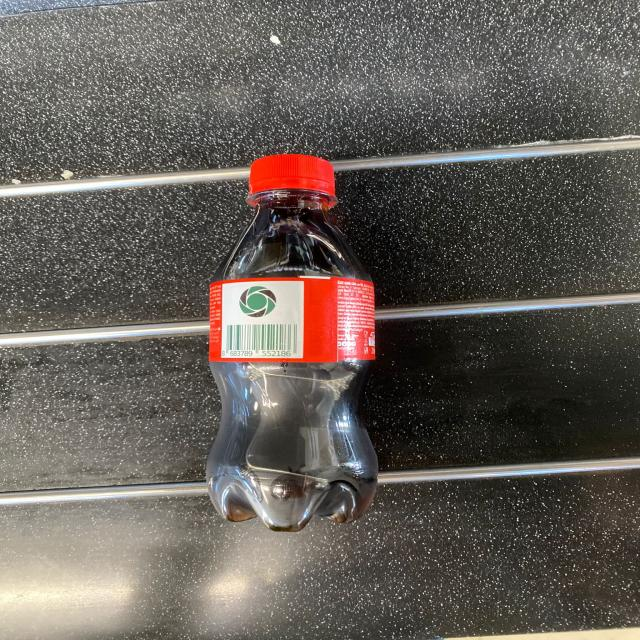yan_yemek: (204, 153, 380, 532)
